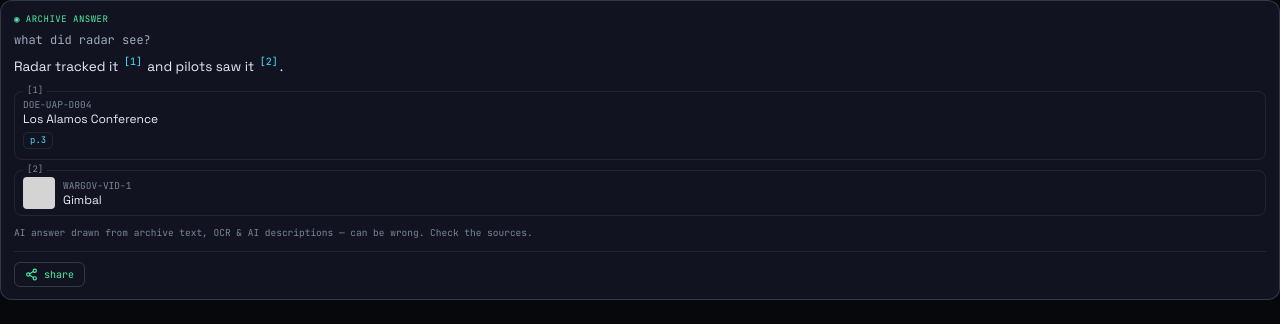
it: AskAnswer › a failed undo says so, stays shared, and the message clears on a later undo
This screenshot has width=1280, height=324.
Click the button "share" at (50, 274), box [14,262,85,287]
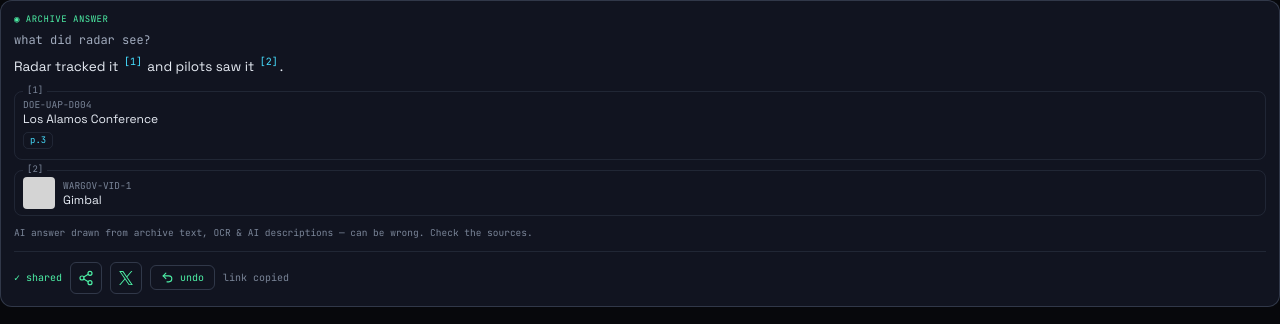
Click the button "undo" at (182, 278), box [150,265,215,290]
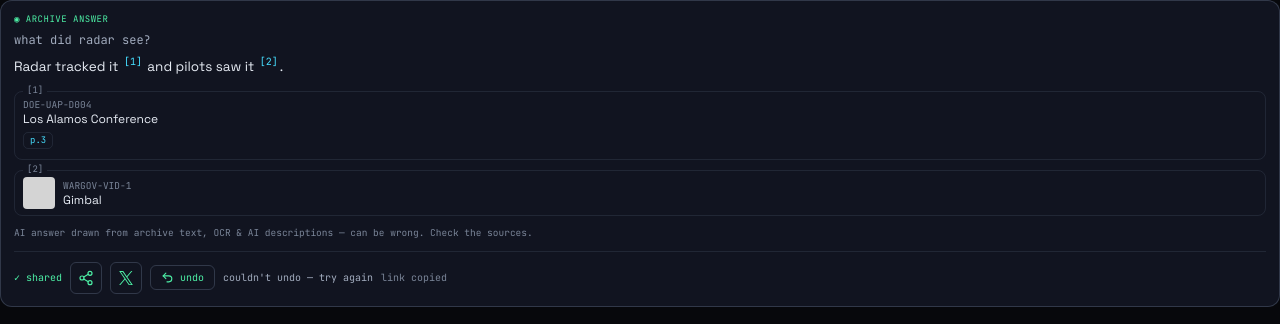
Expected: the text "✓ shared" is shown, [14,270,62,285]
Expected: the button "undo" is shown
Expected: the text "couldn't undo — try again" is shown, [223,270,373,285]
Click the button "undo" at (182, 278), box [150,265,215,290]
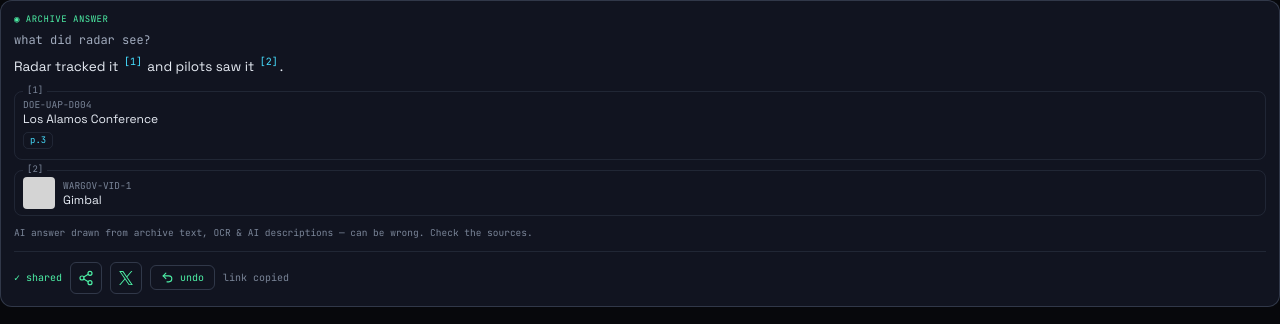
Expected: the text "couldn't undo — try again" is gone
